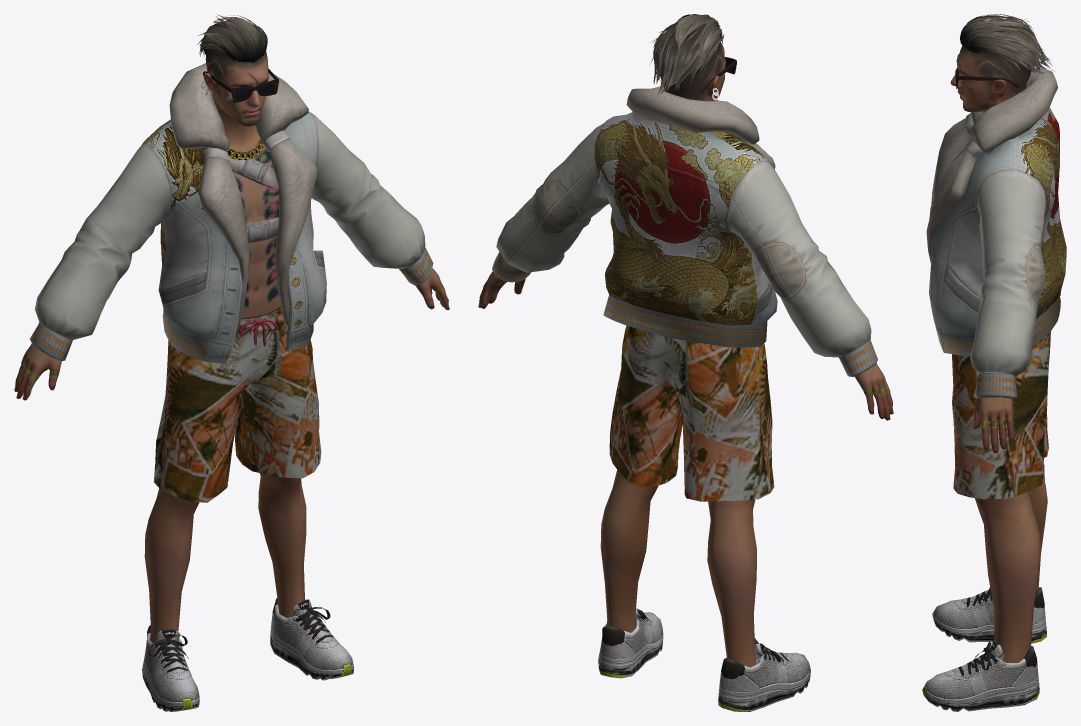
The model's file is slackboss.fbx.
The picture shows the model from 3 angles, left to right: view 1: azimuth 30°, elevation 25°; view 2: azimuth 150°, elevation 25°; view 3: azimuth 270°, elevation 25°; orthographic projection.
Parts seen in each view (by area): view 1: Object_5, Object_3, Object_4, Object_2, Object_8; view 2: Object_5, Object_3, Object_4, Object_2, Object_8; view 3: Object_5, Object_4, Object_3, Object_2, Object_8, Object_6.
Part boxes in pixels (x1,y1,x2,y2): Object_5: [20, 63, 444, 380]; Object_3: [153, 306, 321, 502]; Object_4: [14, 49, 449, 642]; Object_2: [142, 598, 353, 711]; Object_8: [197, 14, 267, 62]; Object_5: [484, 86, 889, 395]; Object_3: [609, 325, 774, 501]; Object_4: [478, 41, 893, 667]; Object_2: [598, 608, 810, 711]; Object_8: [650, 14, 724, 94]; Object_5: [926, 68, 1066, 426]; Object_4: [950, 46, 1047, 662]; Object_3: [952, 331, 1050, 499]; Object_2: [922, 587, 1046, 711]; Object_8: [960, 14, 1054, 73]; Object_6: [955, 54, 1019, 88].
Bounding box in the file's own units: 504 × 755 × 152.
8 materials, 7 textured.
